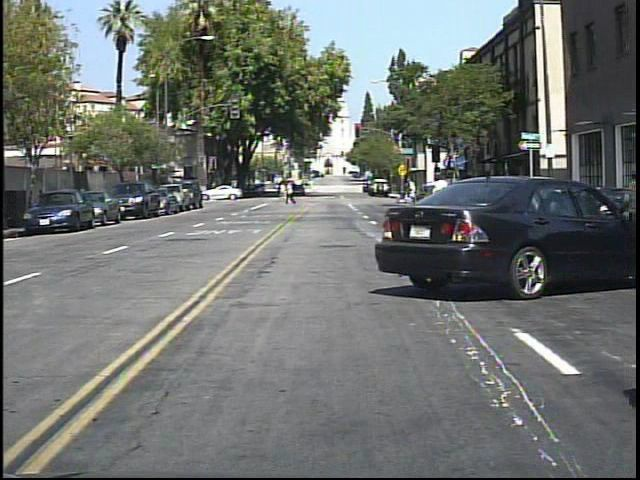person: (427, 162, 459, 252), (525, 169, 544, 224), (285, 177, 300, 208), (405, 175, 419, 205)
